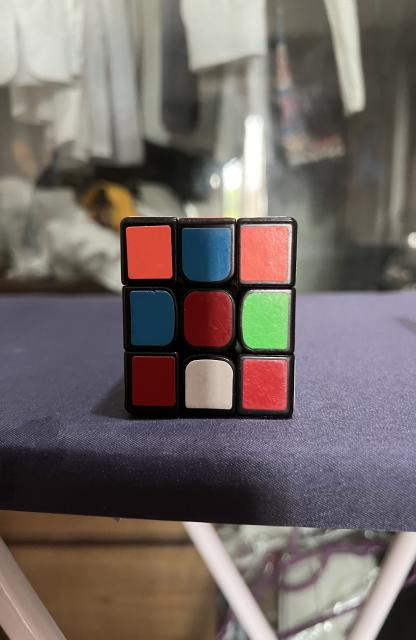Blue: (182, 228, 231, 282), (130, 290, 174, 346)
Green: (242, 292, 289, 349)
Orange: (240, 226, 288, 281), (126, 225, 172, 279)
Red: (183, 291, 233, 348), (243, 359, 287, 410), (132, 356, 176, 406)
White: (185, 359, 233, 410)
